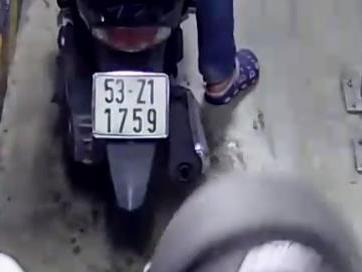num_plate: (92, 71, 169, 138)
